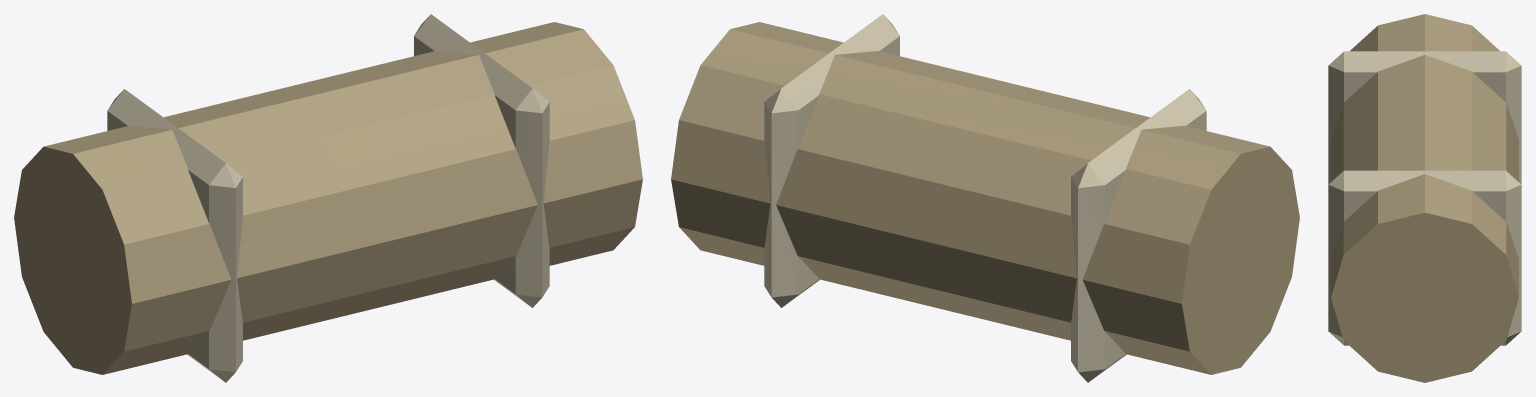
The model's file is mat_rolled.glb.
3 views of the same model, side by side, from view 1: azimuth 30°, elevation 25°; view 2: azimuth 150°, elevation 25°; view 3: azimuth 270°, elevation 25° (orthographic). The views are drawn at different scales.
Visible parts, largest first — view 1: mat_rolled; view 2: mat_rolled; view 3: mat_rolled.
Boxes of the visible parts, x1=… form: mat_rolled: x1=14, y1=14, x2=642, y2=382; mat_rolled: x1=671, y1=14, x2=1299, y2=382; mat_rolled: x1=1328, y1=14, x2=1521, y2=382.
Bounding box in the file's own units: 0.9 × 0.37 × 0.37.
